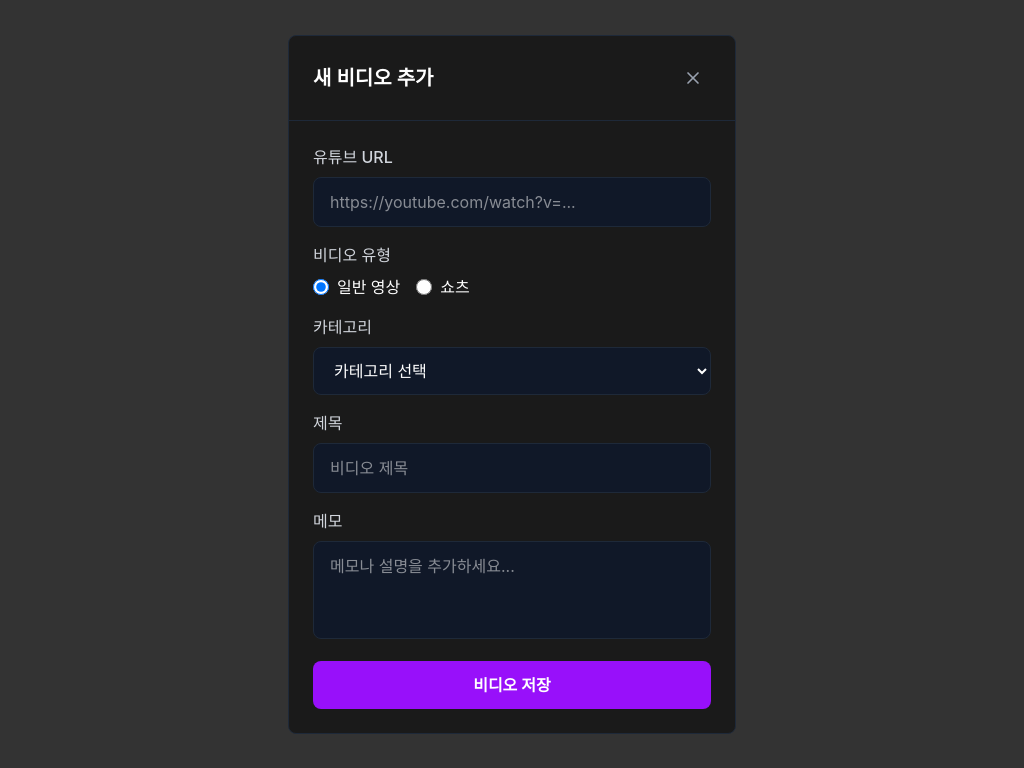
Test case: AddVideoModal › should prevent submission if category is not selected (even if default might be set, force empty)
URL is entered
Type "https://youtube.com/watch?v=123" into the field labelled "유튜브 URL" at (512, 202), box x1=313 y1=176 x2=711 y2=226
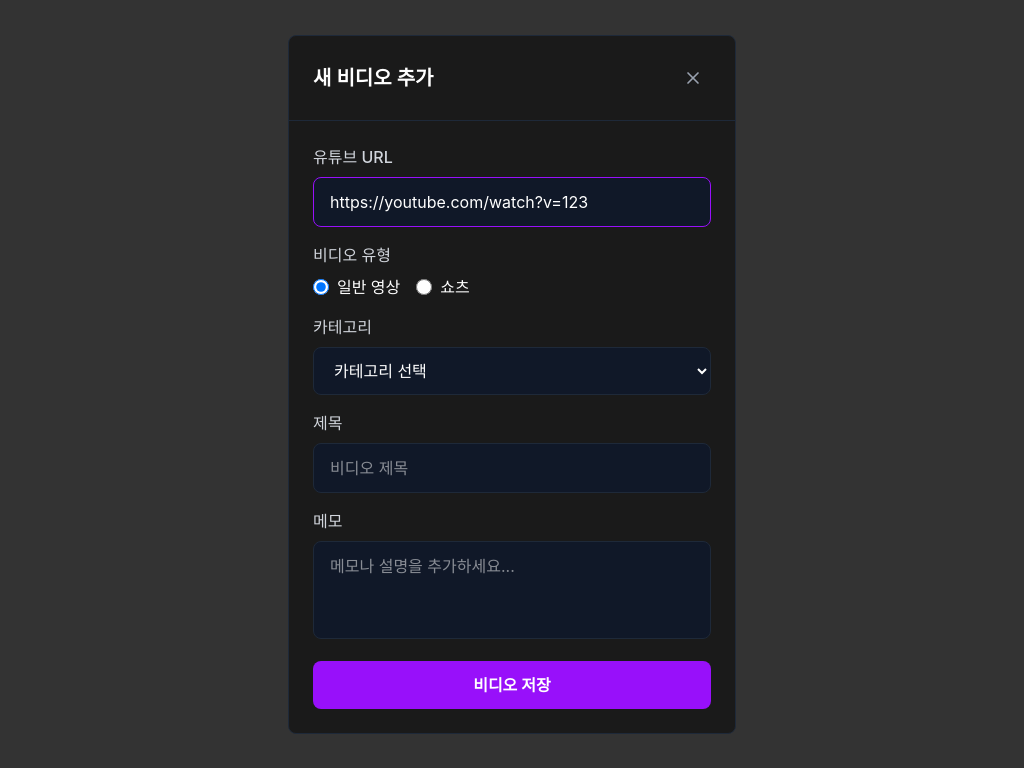
Check: the dropdown labelled "카테고리" shows "카테고리 선택", box x1=313 y1=346 x2=711 y2=394
Click the button "비디오 저장" at (512, 684), box x1=313 y1=660 x2=711 y2=708
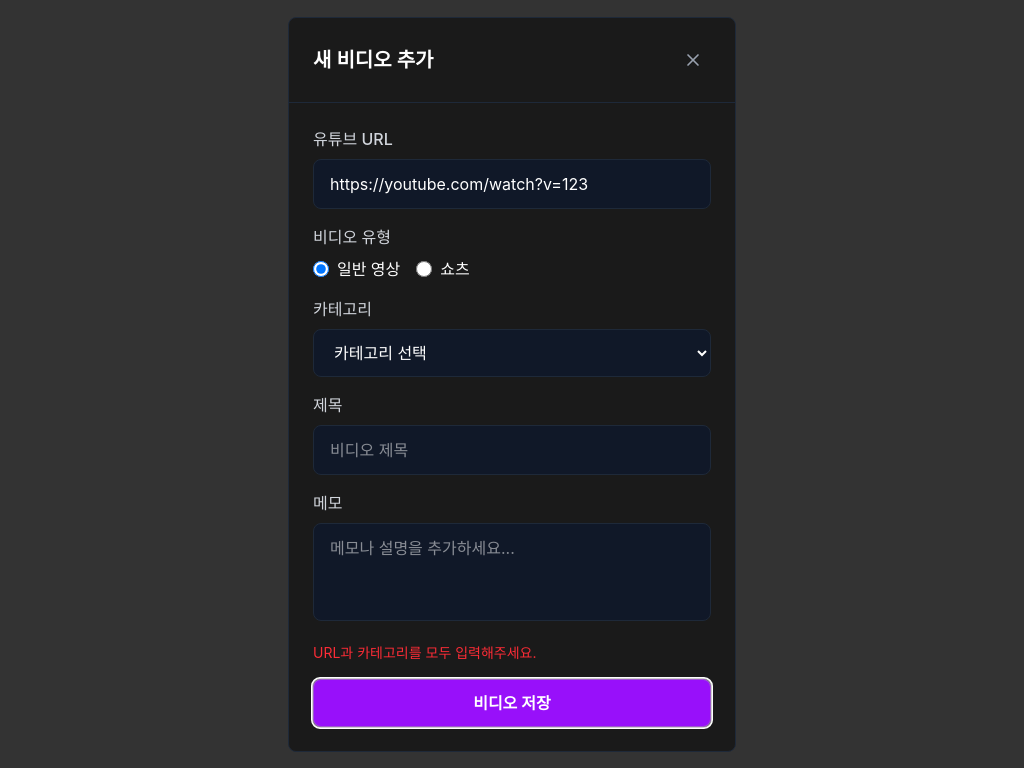
Check: the text "URL과 카테고리를 모두 입력해주세요." is shown, box x1=313 y1=644 x2=536 y2=660
